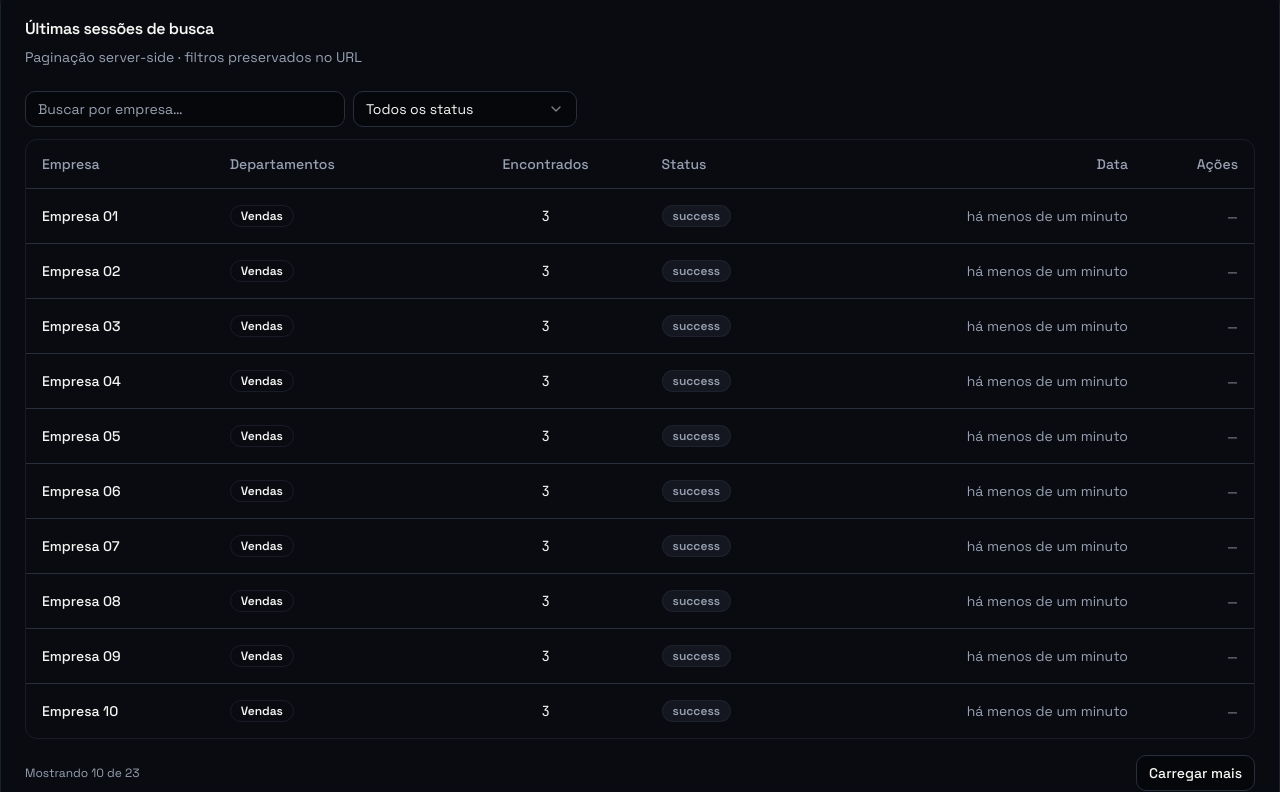
SessionsPanel (R36 server-side) › carregamento incremental: 'Carregar mais' amplia o limite e some quando não há mais dados
Expected: the text "Mostrando 10 de 23" is shown, [25,764,140,780]
Step 1. Click the button with aria-label "Carregar mais sessões" → {"x": 1196, "y": 772}, box [1136,754,1255,790]
(page scrolled)
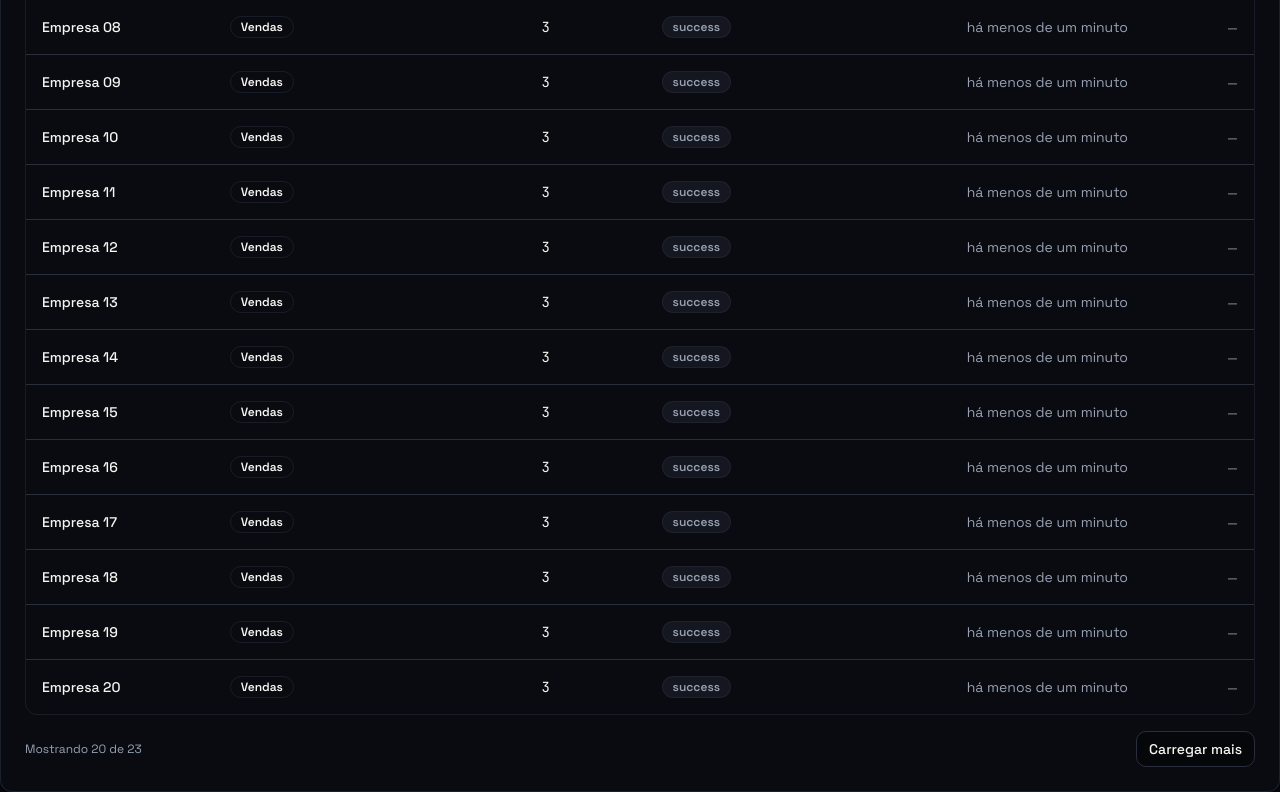
Now the text "Mostrando 20 de 23" is shown, box [25,740,142,756]
Step 2. Click the button with aria-label "Carregar mais sessões" → {"x": 1196, "y": 748}, box [1136,730,1255,766]
(page scrolled)
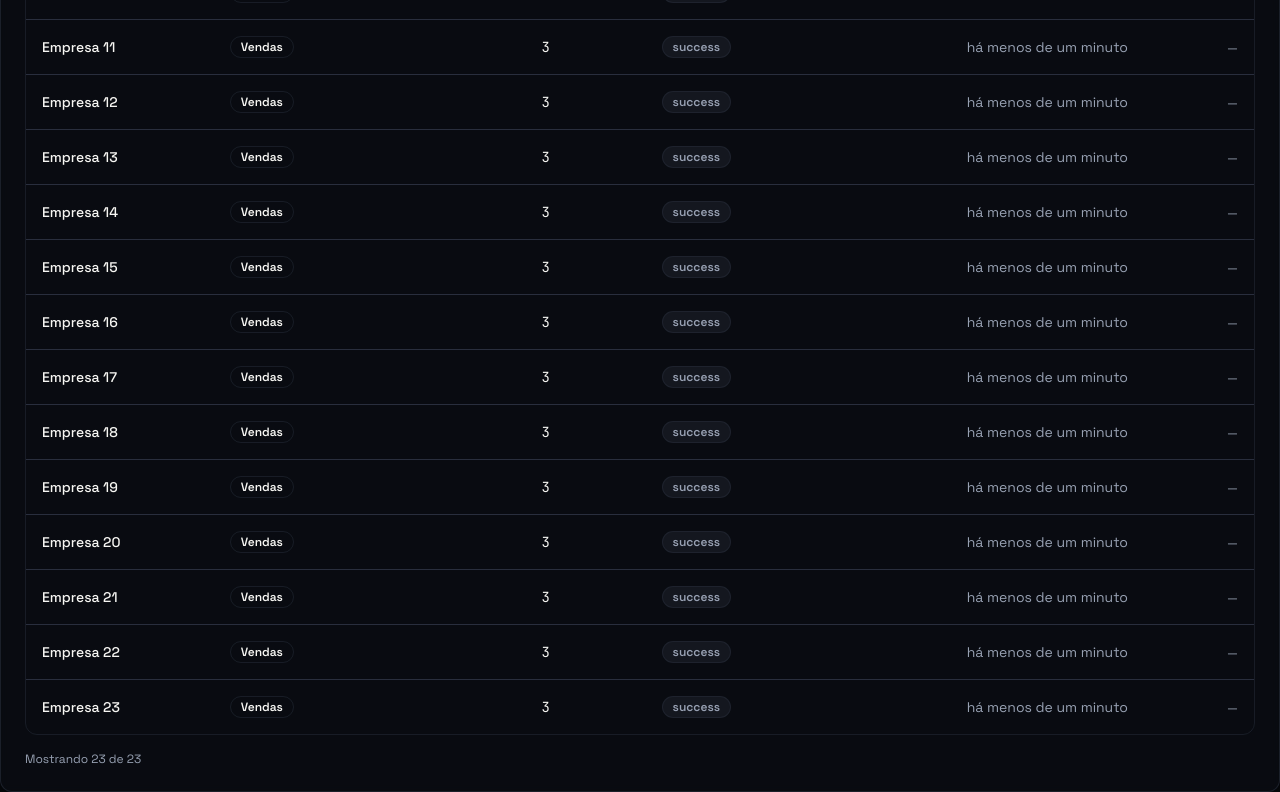
Now the text "Mostrando 23 de 23" is shown, box [25,750,141,766]
